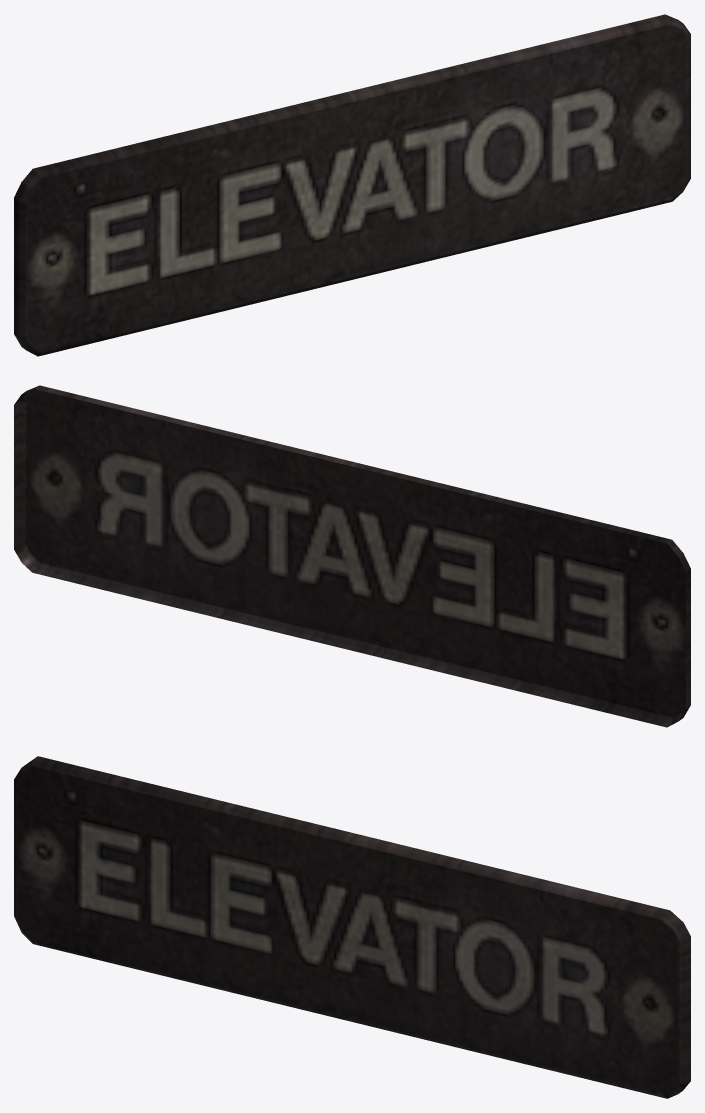
File: elevator_sign_1.fbx
3 renders of one model, top to bottom at view 1: azimuth 30°, elevation 25°; view 2: azimuth 150°, elevation 25°; view 3: azimuth 330°, elevation 25°, orthographic.
Visible parts, largest first — view 1: elevator_sign_1; view 2: elevator_sign_1; view 3: elevator_sign_1.
Part boxes in pixels (box(x1,y1,x2,y2)): elevator_sign_1: box(14, 14, 690, 356); elevator_sign_1: box(14, 385, 690, 727); elevator_sign_1: box(14, 756, 690, 1098).
Size of the model in its own units: 0.7635 by 0.014 by 0.2.
